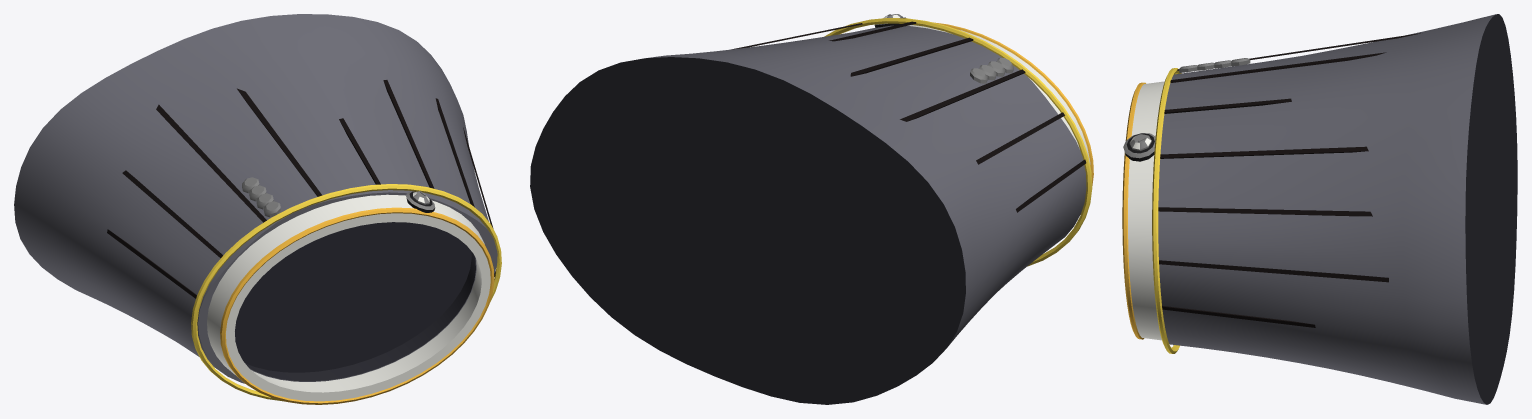
File: Sleeve_Mafia.fbx
The picture shows the model from 3 angles, left to right: view 1: azimuth 30°, elevation 25°; view 2: azimuth 150°, elevation 25°; view 3: azimuth 270°, elevation 25°; orthographic projection. The views are drawn at different scales.
Visible parts, largest first — view 1: Sleeve_Mafia; view 2: Sleeve_Mafia; view 3: Sleeve_Mafia.
Boxes of the visible parts, bbox=[...] form: Sleeve_Mafia: bbox=[14, 14, 501, 404]; Sleeve_Mafia: bbox=[530, 14, 1093, 404]; Sleeve_Mafia: bbox=[1122, 14, 1517, 404].
Size of the model in its own units: 1.01 by 0.6556 by 0.7393.
Materials: 1 (1 with a texture image).
